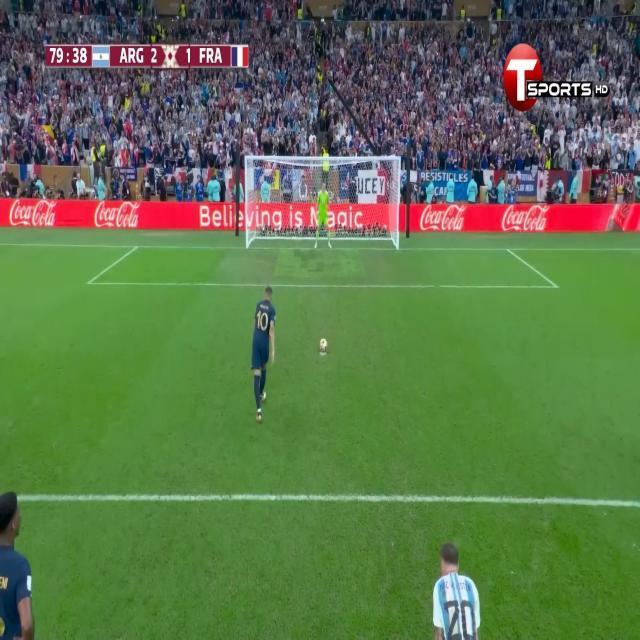ball: (316, 325, 327, 366)
goalkeeper: (311, 177, 335, 253)
player: (0, 464, 38, 640), (429, 530, 487, 640), (250, 276, 280, 410)
